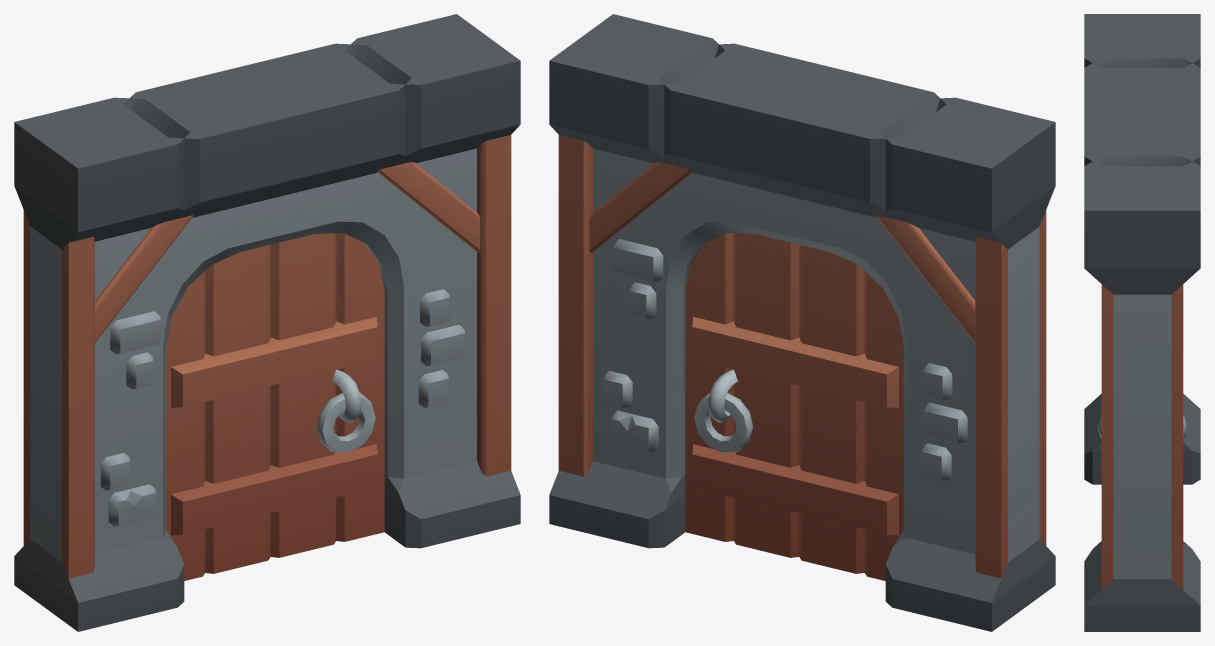
Rendered from wall_doorway_scaffold.gltf.
3 views of the same model, side by side, from view 1: azimuth 30°, elevation 25°; view 2: azimuth 150°, elevation 25°; view 3: azimuth 270°, elevation 25° (orthographic). The views are drawn at different scales.
Parts seen in each view (by area): view 1: wall_doorway_scaffold, wall_doorway_scaffold_door; view 2: wall_doorway_scaffold, wall_doorway_scaffold_door; view 3: wall_doorway_scaffold.
Boxes of the visible parts, x1=… form: wall_doorway_scaffold: x1=14, y1=14, x2=520, y2=631; wall_doorway_scaffold_door: x1=166, y1=233, x2=384, y2=580; wall_doorway_scaffold: x1=549, y1=14, x2=1055, y2=631; wall_doorway_scaffold_door: x1=685, y1=233, x2=903, y2=580; wall_doorway_scaffold: x1=1084, y1=14, x2=1200, y2=631.
Bounding box in the file's own units: 4 × 4 × 1.
1 material, 1 textured.
